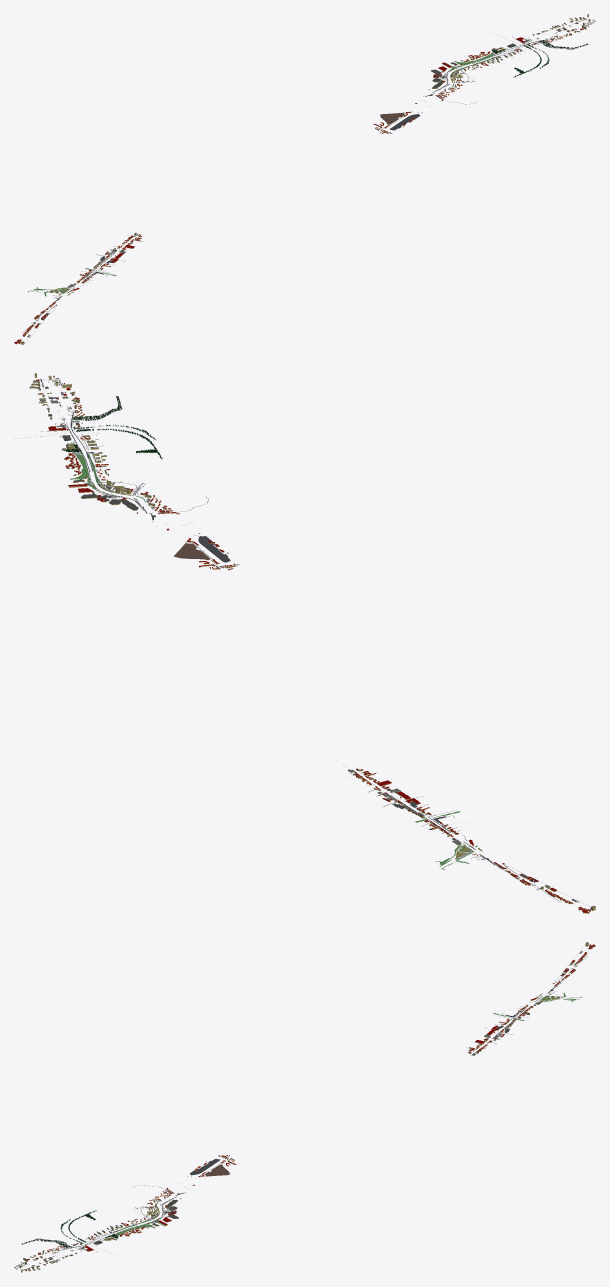
File: citynew2.glb
3 renders of one model, top to bottom at view 1: azimuth 90°, elevation 25°; view 2: azimuth 150°, elevation 25°; view 3: azimuth 270°, elevation 25°, orthographic. The views are drawn at different scales.
Parts seen in each view (by area): view 1: object 2, object 5, object 3, object 8; view 2: object 2, object 5, object 3, object 8, Tree n9720151170; view 3: object 2, object 5, object 3, object 8.
Part boxes in pixels (x1,y1,x2,y2): object 2: (14,15,595,344); object 5: (24,18,586,337); object 3: (14,17,595,343); object 8: (21,14,593,342); object 2: (30,374,595,913); object 5: (40,379,590,909); object 3: (36,375,590,912); object 8: (30,373,595,907); Tree n9720151170: (63,396,404,804); object 2: (14,943,595,1272); object 5: (23,945,587,1270); object 3: (14,944,595,1270); object 8: (15,942,588,1270).
Size of the model in its own units: 10970 by 52.55 by 8216.
Materials: 25 (24 with a texture image).
